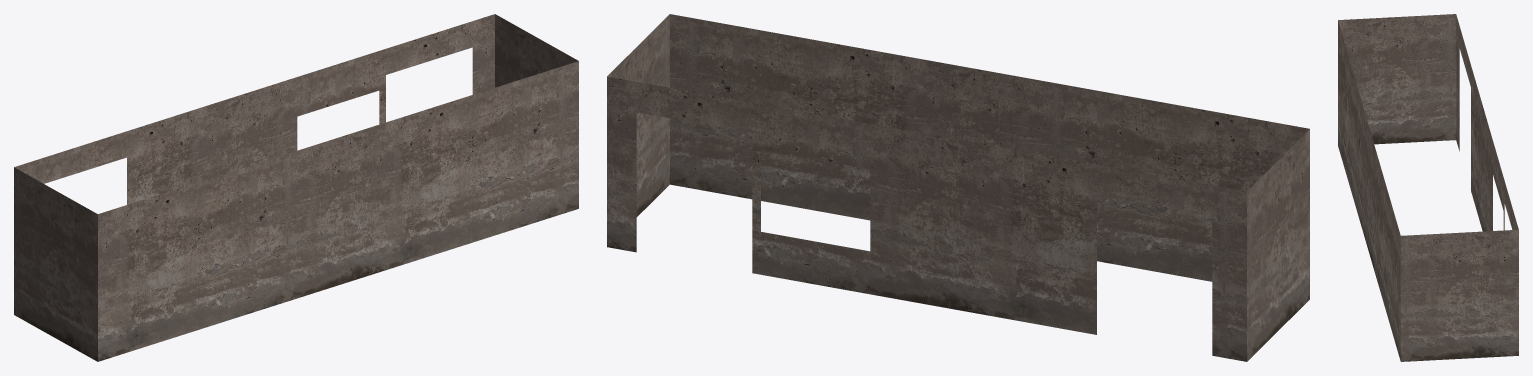
Rendered from Ind_IntWalls.FBX.
3 renders of one model, left to right at view 1: azimuth 30°, elevation 25°; view 2: azimuth 150°, elevation 25°; view 3: azimuth 270°, elevation 25°, orthographic. The views are drawn at different scales.
Parts seen in each view (by area): view 1: Ind_IntWalls; view 2: Ind_IntWalls; view 3: Ind_IntWalls.
Boxes of the visible parts, <box> form: Ind_IntWalls: <box>14,14,578,361</box>; Ind_IntWalls: <box>607,14,1309,361</box>; Ind_IntWalls: <box>1338,14,1518,361</box>.
Size of the model in its own units: 1589 by 421 by 547.
